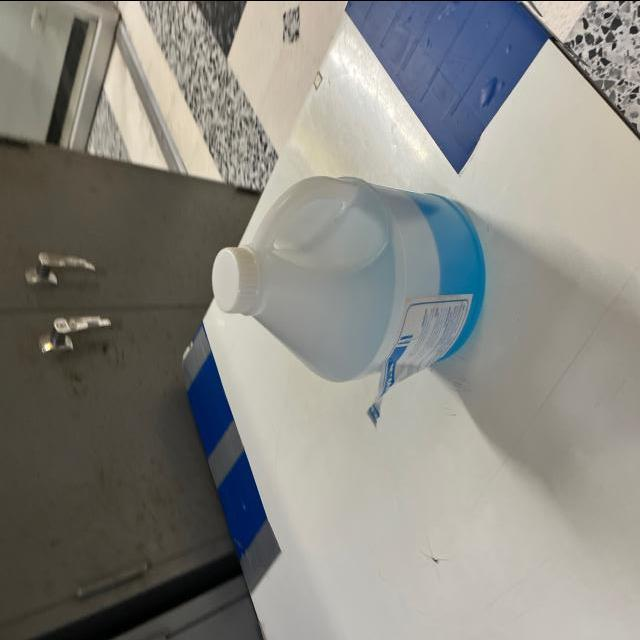HDPE Plastic: (205, 173, 488, 383)
